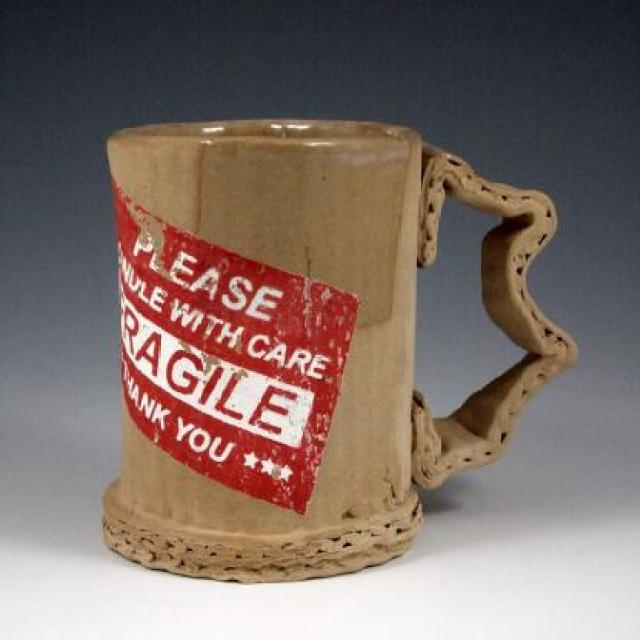box: (95, 96, 582, 594)
